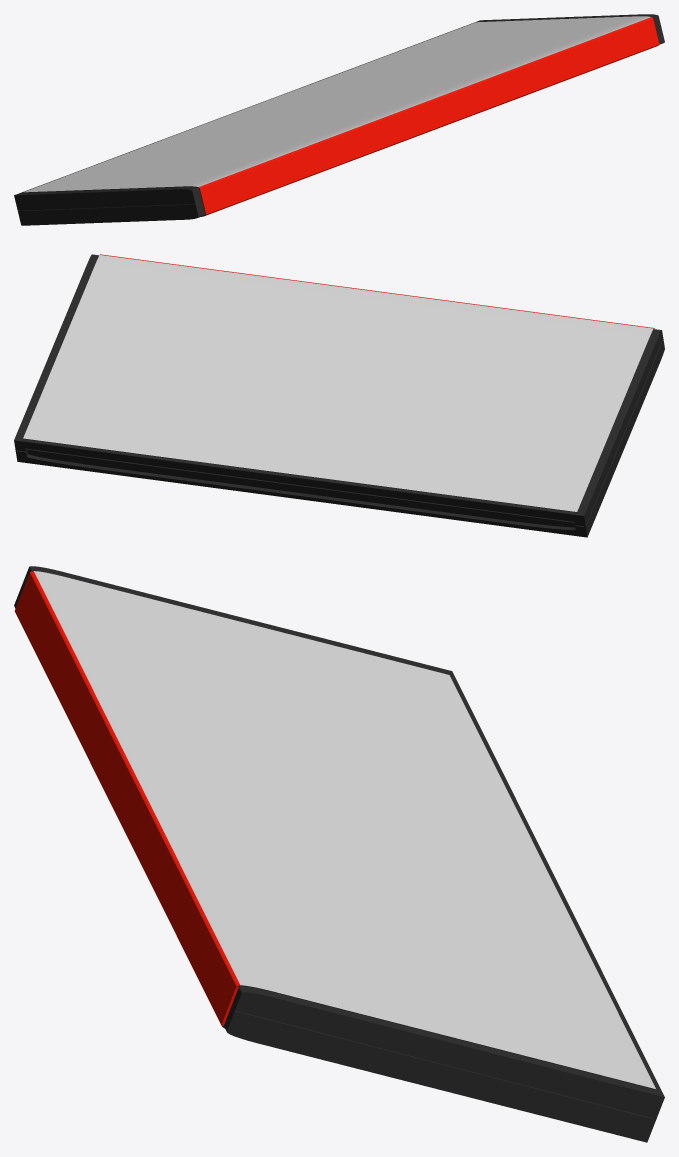
File: GameCase4.fbx
3 renders of one model, top to bottom at view 1: azimuth 30°, elevation 25°; view 2: azimuth 150°, elevation 25°; view 3: azimuth 270°, elevation 25°, orthographic. The views are drawn at different scales.
Parts seen in each view (by area): view 1: Games.008; view 2: Games.008; view 3: Games.008.
Boxes of the visible parts, x1,y1,x2,y2 form: Games.008: (14,14,664,225); Games.008: (14,254,664,537); Games.008: (14,566,664,1142).
Size of the model in its own units: 185 by 35.94 by 110.
